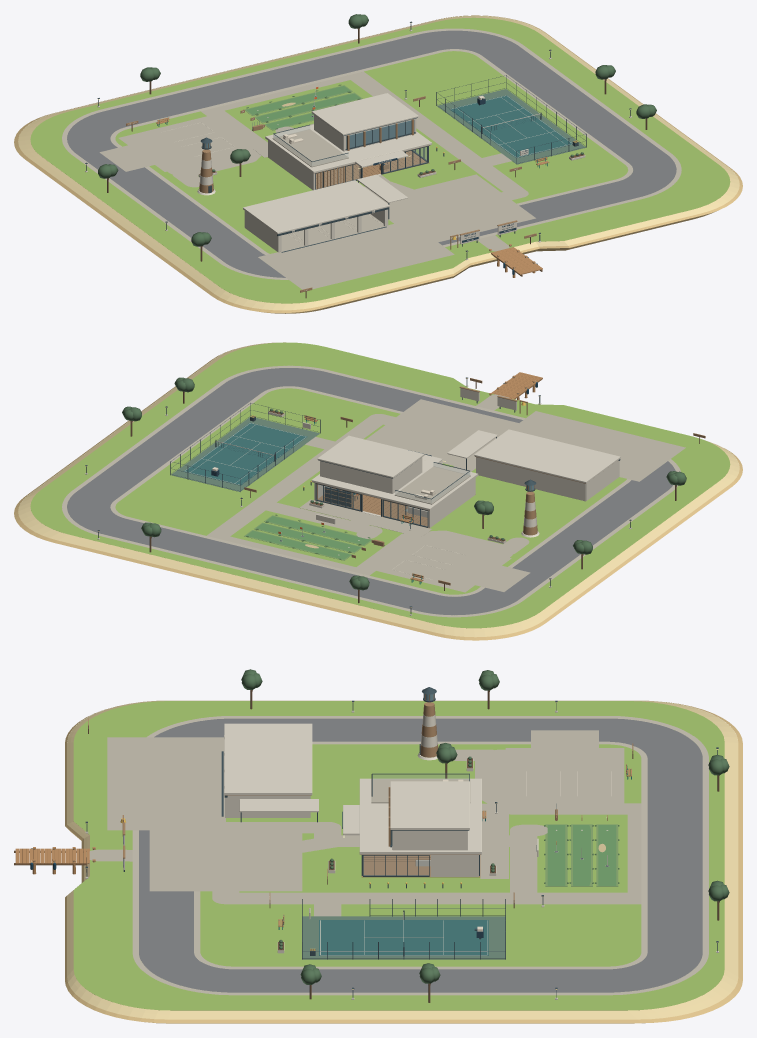
File: about.glb
3 views of the same model, one above another, from view 1: azimuth 30°, elevation 25°; view 2: azimuth 150°, elevation 25°; view 3: azimuth 270°, elevation 25° (orthographic). The views are drawn at different scales.
Visible parts, largest first — view 1: static_grass, district_harbor_estate_paving, district_harbor_estate_asphalt, static_sand, district_harbor_estate_roadShoulder, occluder_estate_garage_roof_estate_stone, static_sandEdge, district_harbor_estate_court, occluder_estate_house_upper_estate_stone, occluder_estate_house_roof_estate_stone, district_harbor_estate_wood, district_harbor_estate_courtOuter (+13 smaller); view 2: static_grass, district_harbor_estate_asphalt, district_harbor_estate_paving, static_sand, district_harbor_estate_roadShoulder, occluder_estate_house_upper_estate_stone, occluder_estate_garage_roof_estate_stone, district_harbor_estate_court, static_sandEdge, occluder_estate_garage_walls_estate_stone, district_harbor_estate_green, district_harbor_estate_courtOuter (+12 smaller); view 3: static_grass, district_harbor_estate_paving, district_harbor_estate_asphalt, static_sand, district_harbor_estate_roadShoulder, occluder_estate_garage_roof_estate_stone, district_harbor_estate_court, occluder_estate_house_upper_estate_stone, static_sandEdge, occluder_estate_house_roof_estate_stone, district_harbor_estate_green, district_harbor_estate_courtOuter (+12 smaller).
Part boxes in pixels (x1=…): static_grass: x1=30, y1=17, x2=730, y2=303; district_harbor_estate_paving: x1=99, y1=71, x2=535, y2=289; district_harbor_estate_asphalt: x1=67, y1=30, x2=676, y2=277; static_sand: x1=18, y1=15, x2=739, y2=310; district_harbor_estate_roadShoulder: x1=62, y1=28, x2=681, y2=279; occluder_estate_garage_roof_estate_stone: x1=243, y1=180, x2=389, y2=234; static_sandEdge: x1=14, y1=15, x2=742, y2=313; district_harbor_estate_court: x1=449, y1=95, x2=572, y2=157; occluder_estate_house_upper_estate_stone: x1=311, y1=93, x2=418, y2=151; occluder_estate_house_roof_estate_stone: x1=265, y1=124, x2=431, y2=173; district_harbor_estate_wood: x1=126, y1=96, x2=536, y2=292; district_harbor_estate_courtOuter: x1=437, y1=89, x2=585, y2=164; static_grass: x1=30, y1=342, x2=730, y2=628; district_harbor_estate_asphalt: x1=67, y1=368, x2=675, y2=615; district_harbor_estate_paving: x1=206, y1=394, x2=685, y2=592; static_sand: x1=18, y1=342, x2=739, y2=637; district_harbor_estate_roadShoulder: x1=62, y1=365, x2=680, y2=617; occluder_estate_house_upper_estate_stone: x1=317, y1=435, x2=424, y2=493; occluder_estate_garage_roof_estate_stone: x1=474, y1=429, x2=620, y2=483; district_harbor_estate_court: x1=183, y1=422, x2=307, y2=485; static_sandEdge: x1=14, y1=349, x2=742, y2=640; occluder_estate_garage_walls_estate_stone: x1=476, y1=457, x2=619, y2=501; district_harbor_estate_green: x1=246, y1=516, x2=370, y2=559; district_harbor_estate_courtOuter: x1=171, y1=417, x2=319, y2=491; static_grass: x1=73, y1=701, x2=724, y2=1010; district_harbor_estate_paving: x1=89, y1=730, x2=641, y2=916; district_harbor_estate_asphalt: x1=139, y1=718, x2=702, y2=992; static_sand: x1=67, y1=700, x2=738, y2=1019; district_harbor_estate_roadShoulder: x1=132, y1=716, x2=708, y2=995; occluder_estate_garage_roof_estate_stone: x1=224, y1=723, x2=312, y2=795; district_harbor_estate_court: x1=319, y1=920, x2=488, y2=955; occluder_estate_house_upper_estate_stone: x1=390, y1=781, x2=469, y2=850; static_sandEdge: x1=65, y1=702, x2=742, y2=1023; occluder_estate_house_roof_estate_stone: x1=343, y1=778, x2=481, y2=854; district_harbor_estate_green: x1=547, y1=825, x2=616, y2=885; district_harbor_estate_courtOuter: x1=302, y1=916, x2=505, y2=959.
Bounding box in the file's own units: 90 × 10.46 × 86.
